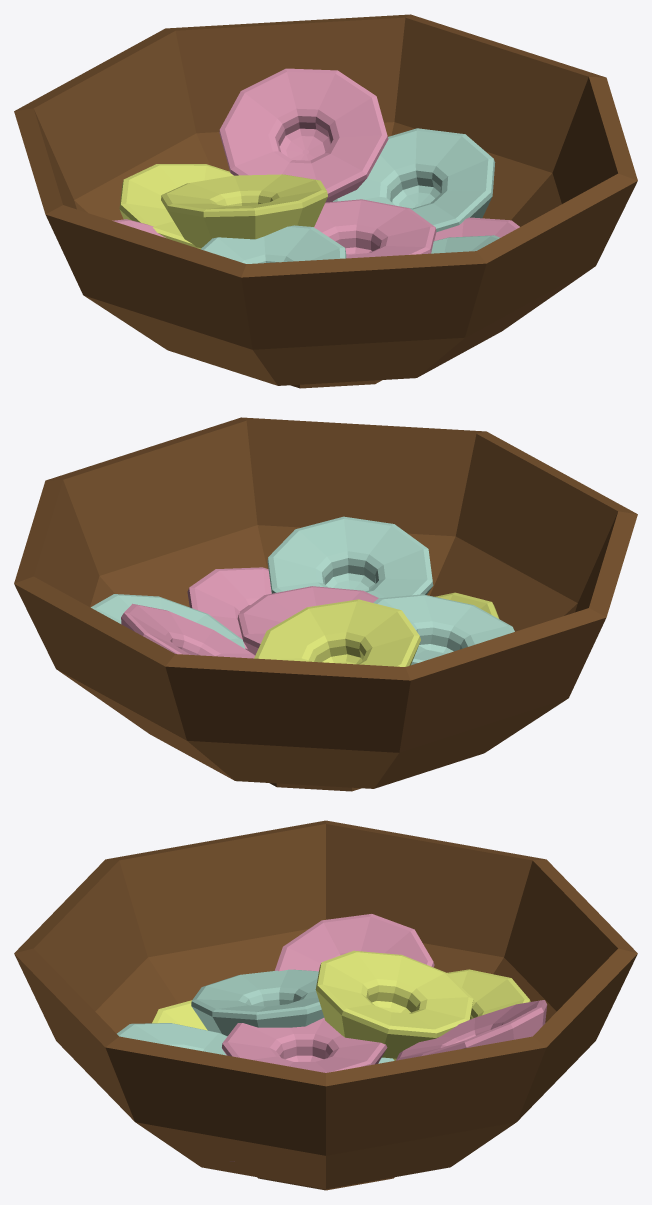
Rendered from NamDokmai Snack.glb.
The picture shows the model from 3 angles, top to bottom: view 1: azimuth 30°, elevation 25°; view 2: azimuth 150°, elevation 25°; view 3: azimuth 270°, elevation 25°; orthographic projection. The views are drawn at different scales.
Parts seen in each view (by area): view 1: Circle, Cylinder.003; view 2: Circle, Cylinder.003; view 3: Circle, Cylinder.003.
Part boxes in pixels (bbox=[...]): Circle: bbox=[14, 14, 637, 388]; Cylinder.003: bbox=[112, 68, 519, 263]; Circle: bbox=[14, 417, 637, 791]; Cylinder.003: bbox=[91, 516, 514, 666]; Circle: bbox=[14, 820, 637, 1190]; Cylinder.003: bbox=[117, 914, 547, 1161].
Bounding box in the file's own units: 2.46 × 0.868 × 2.44.
